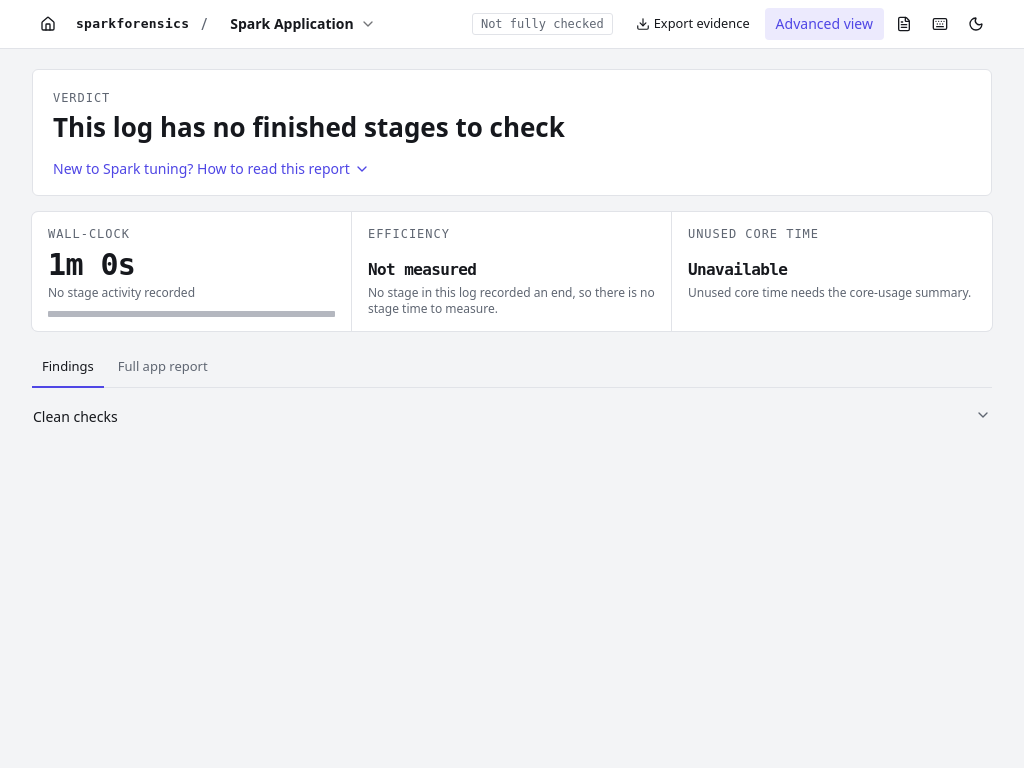
keeps the Full app report tab initially unselected and renders every ledger category once opened
Expected: the heading "Evidence availability" is not shown
Click the tab "Full app report" at (163, 367), box x1=108 y1=347 x2=218 y2=388
(page scrolled)
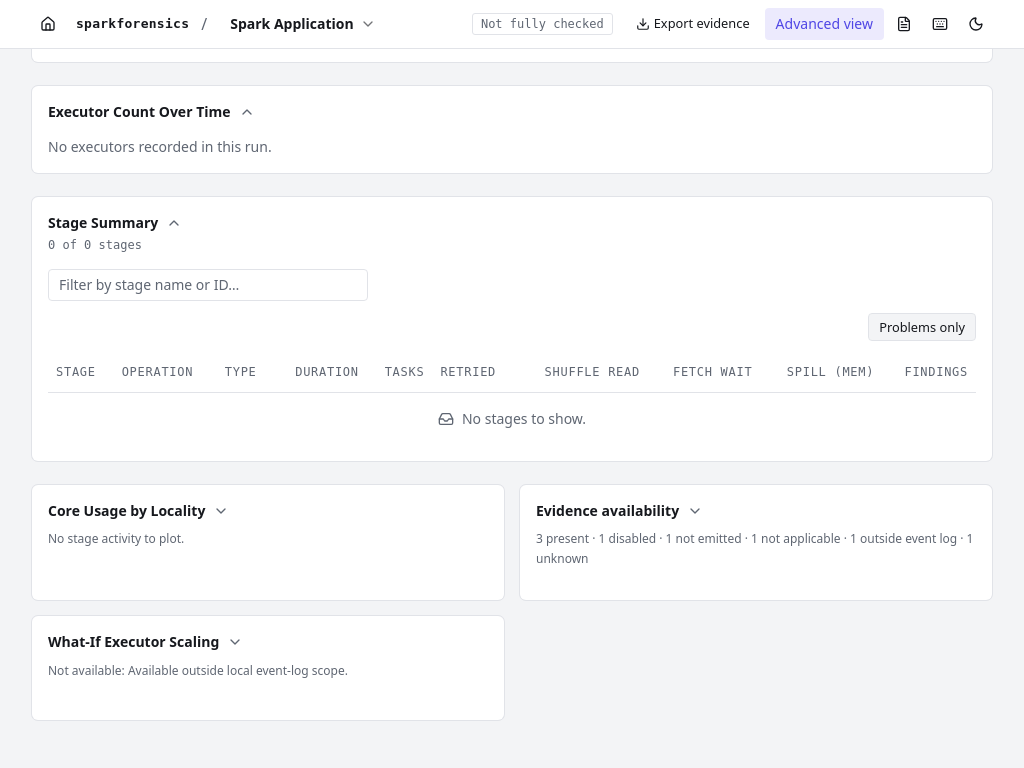
Click the button "Evidence availability" at (608, 511), box x1=536 y1=501 x2=976 y2=520
(page scrolled)
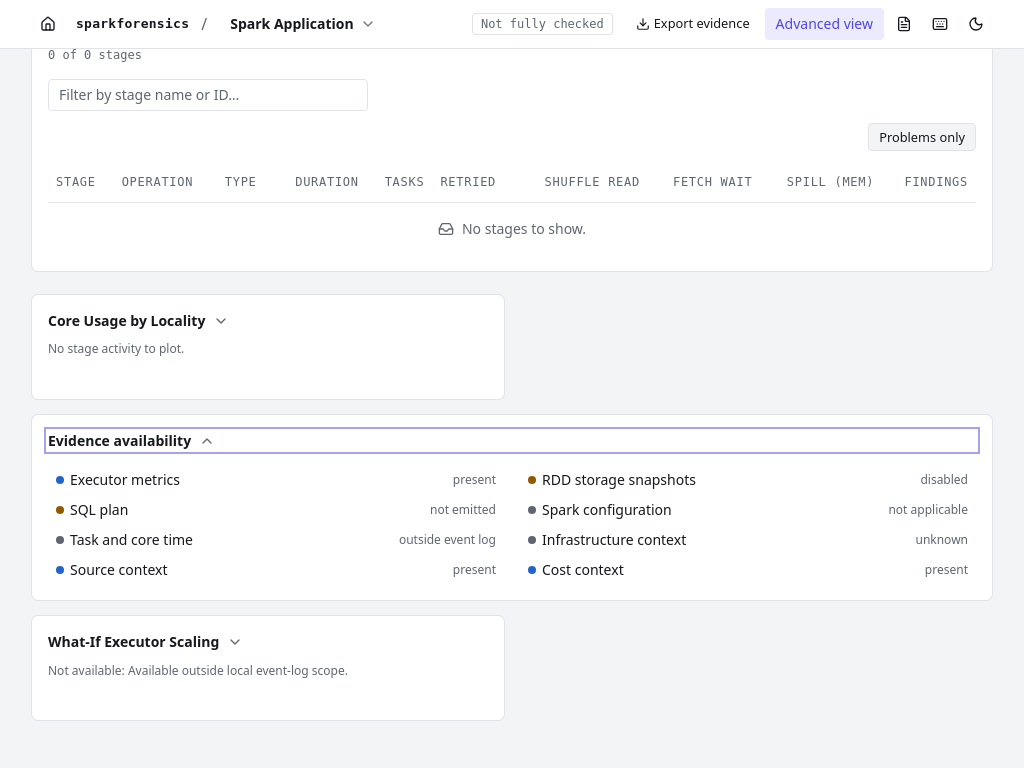
Expected: the text "disabled" is shown, x1=920 y1=472 x2=968 y2=488
Expected: the text "not emitted" is shown, x1=430 y1=502 x2=496 y2=518
Expected: the text "present" in the row of "Executor metrics" is shown, x1=453 y1=471 x2=496 y2=488
